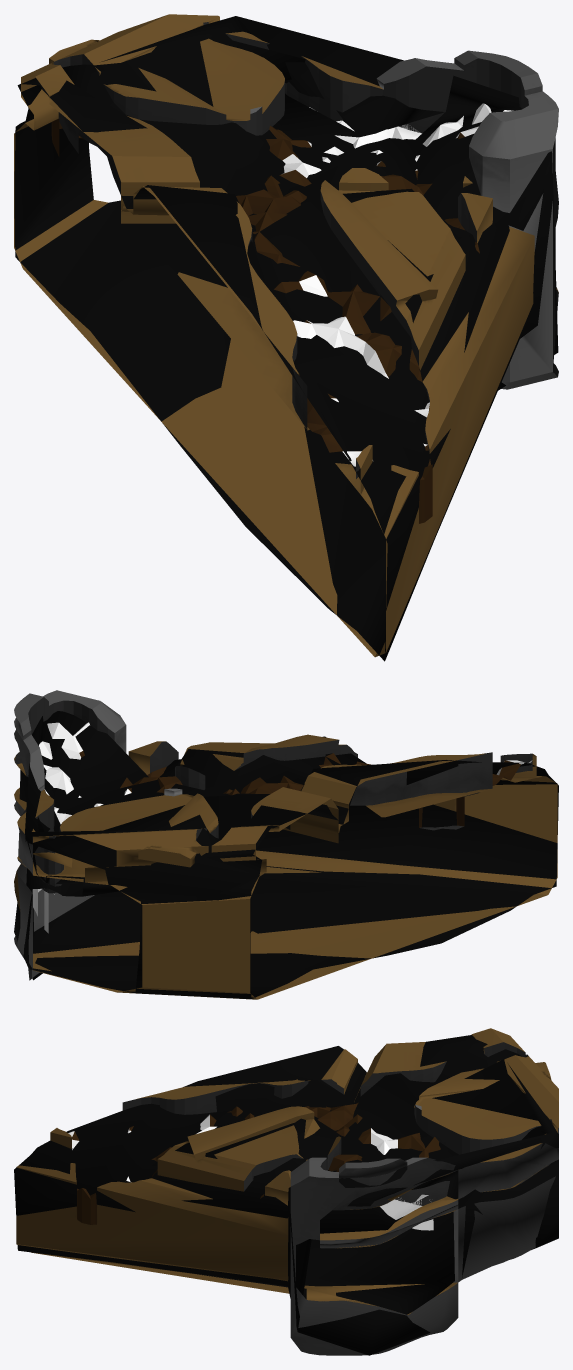
Rendered from newsh4-56-d.glb.
The picture shows the model from 3 angles, top to bottom: view 1: azimuth 30°, elevation 25°; view 2: azimuth 150°, elevation 25°; view 3: azimuth 270°, elevation 25°; orthographic projection. The views are drawn at different scales.
Visible parts, largest first — view 1: newsh4-56, newsh4-56_outline; view 2: newsh4-56_outline, newsh4-56; view 3: newsh4-56, newsh4-56_outline.
Part boxes in pixels (<box>): newsh4-56: <box>14,14,558,657</box>; newsh4-56_outline: <box>14,16,558,661</box>; newsh4-56_outline: <box>14,711,558,999</box>; newsh4-56: <box>14,690,557,999</box>; newsh4-56: <box>16,1028,558,1355</box>; newsh4-56_outline: <box>14,1035,558,1355</box>.
Bounding box in the file's own units: 0.9618 × 0.7691 × 1.69.
Materials: 12 (11 with a texture image).
